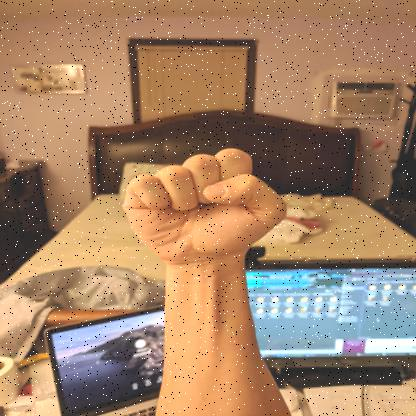S: (122, 148, 287, 263)
